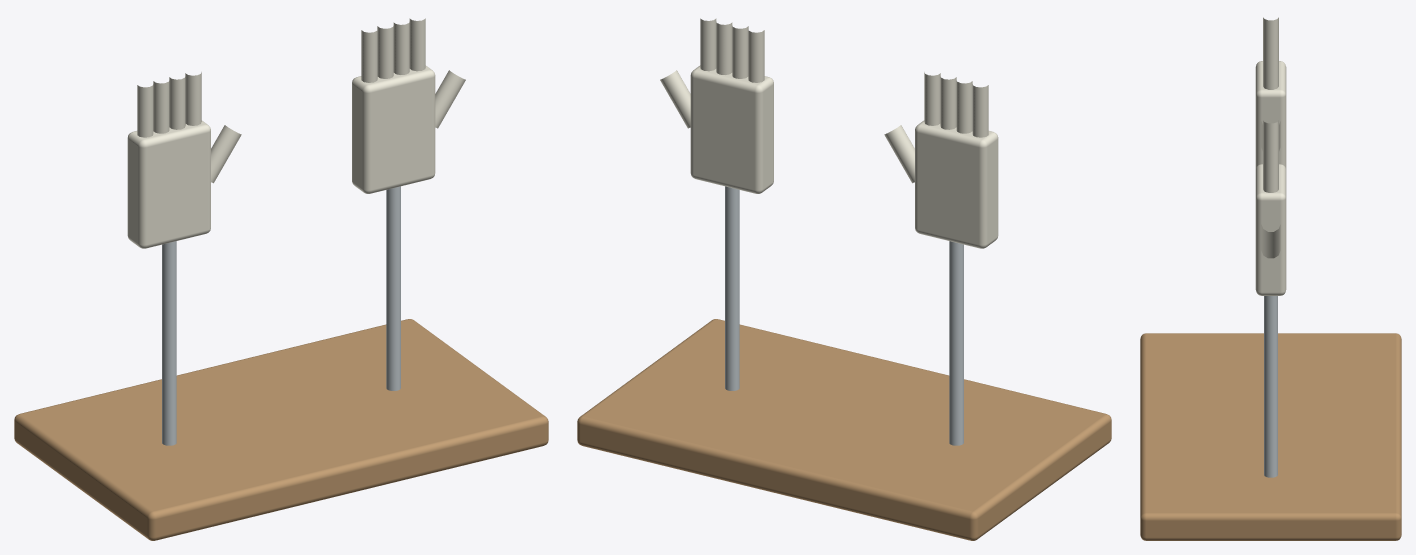
The model's file is beekeeping-and-honey-farm-glove-drying-rack-d933fccf__30720.glb.
3 views of the same model, side by side, from view 1: azimuth 30°, elevation 25°; view 2: azimuth 150°, elevation 25°; view 3: azimuth 270°, elevation 25° (orthographic). The views are drawn at different scales.
Parts seen in each view (by area): view 1: glove-drying-rack; view 2: glove-drying-rack; view 3: glove-drying-rack.
Boxes of the visible parts, x1,y1,x2,y2 form: glove-drying-rack: (14, 18, 548, 540); glove-drying-rack: (577, 18, 1111, 540); glove-drying-rack: (1140, 17, 1401, 540).
Bounding box in the file's own units: 0.5 × 0.47 × 0.3.
